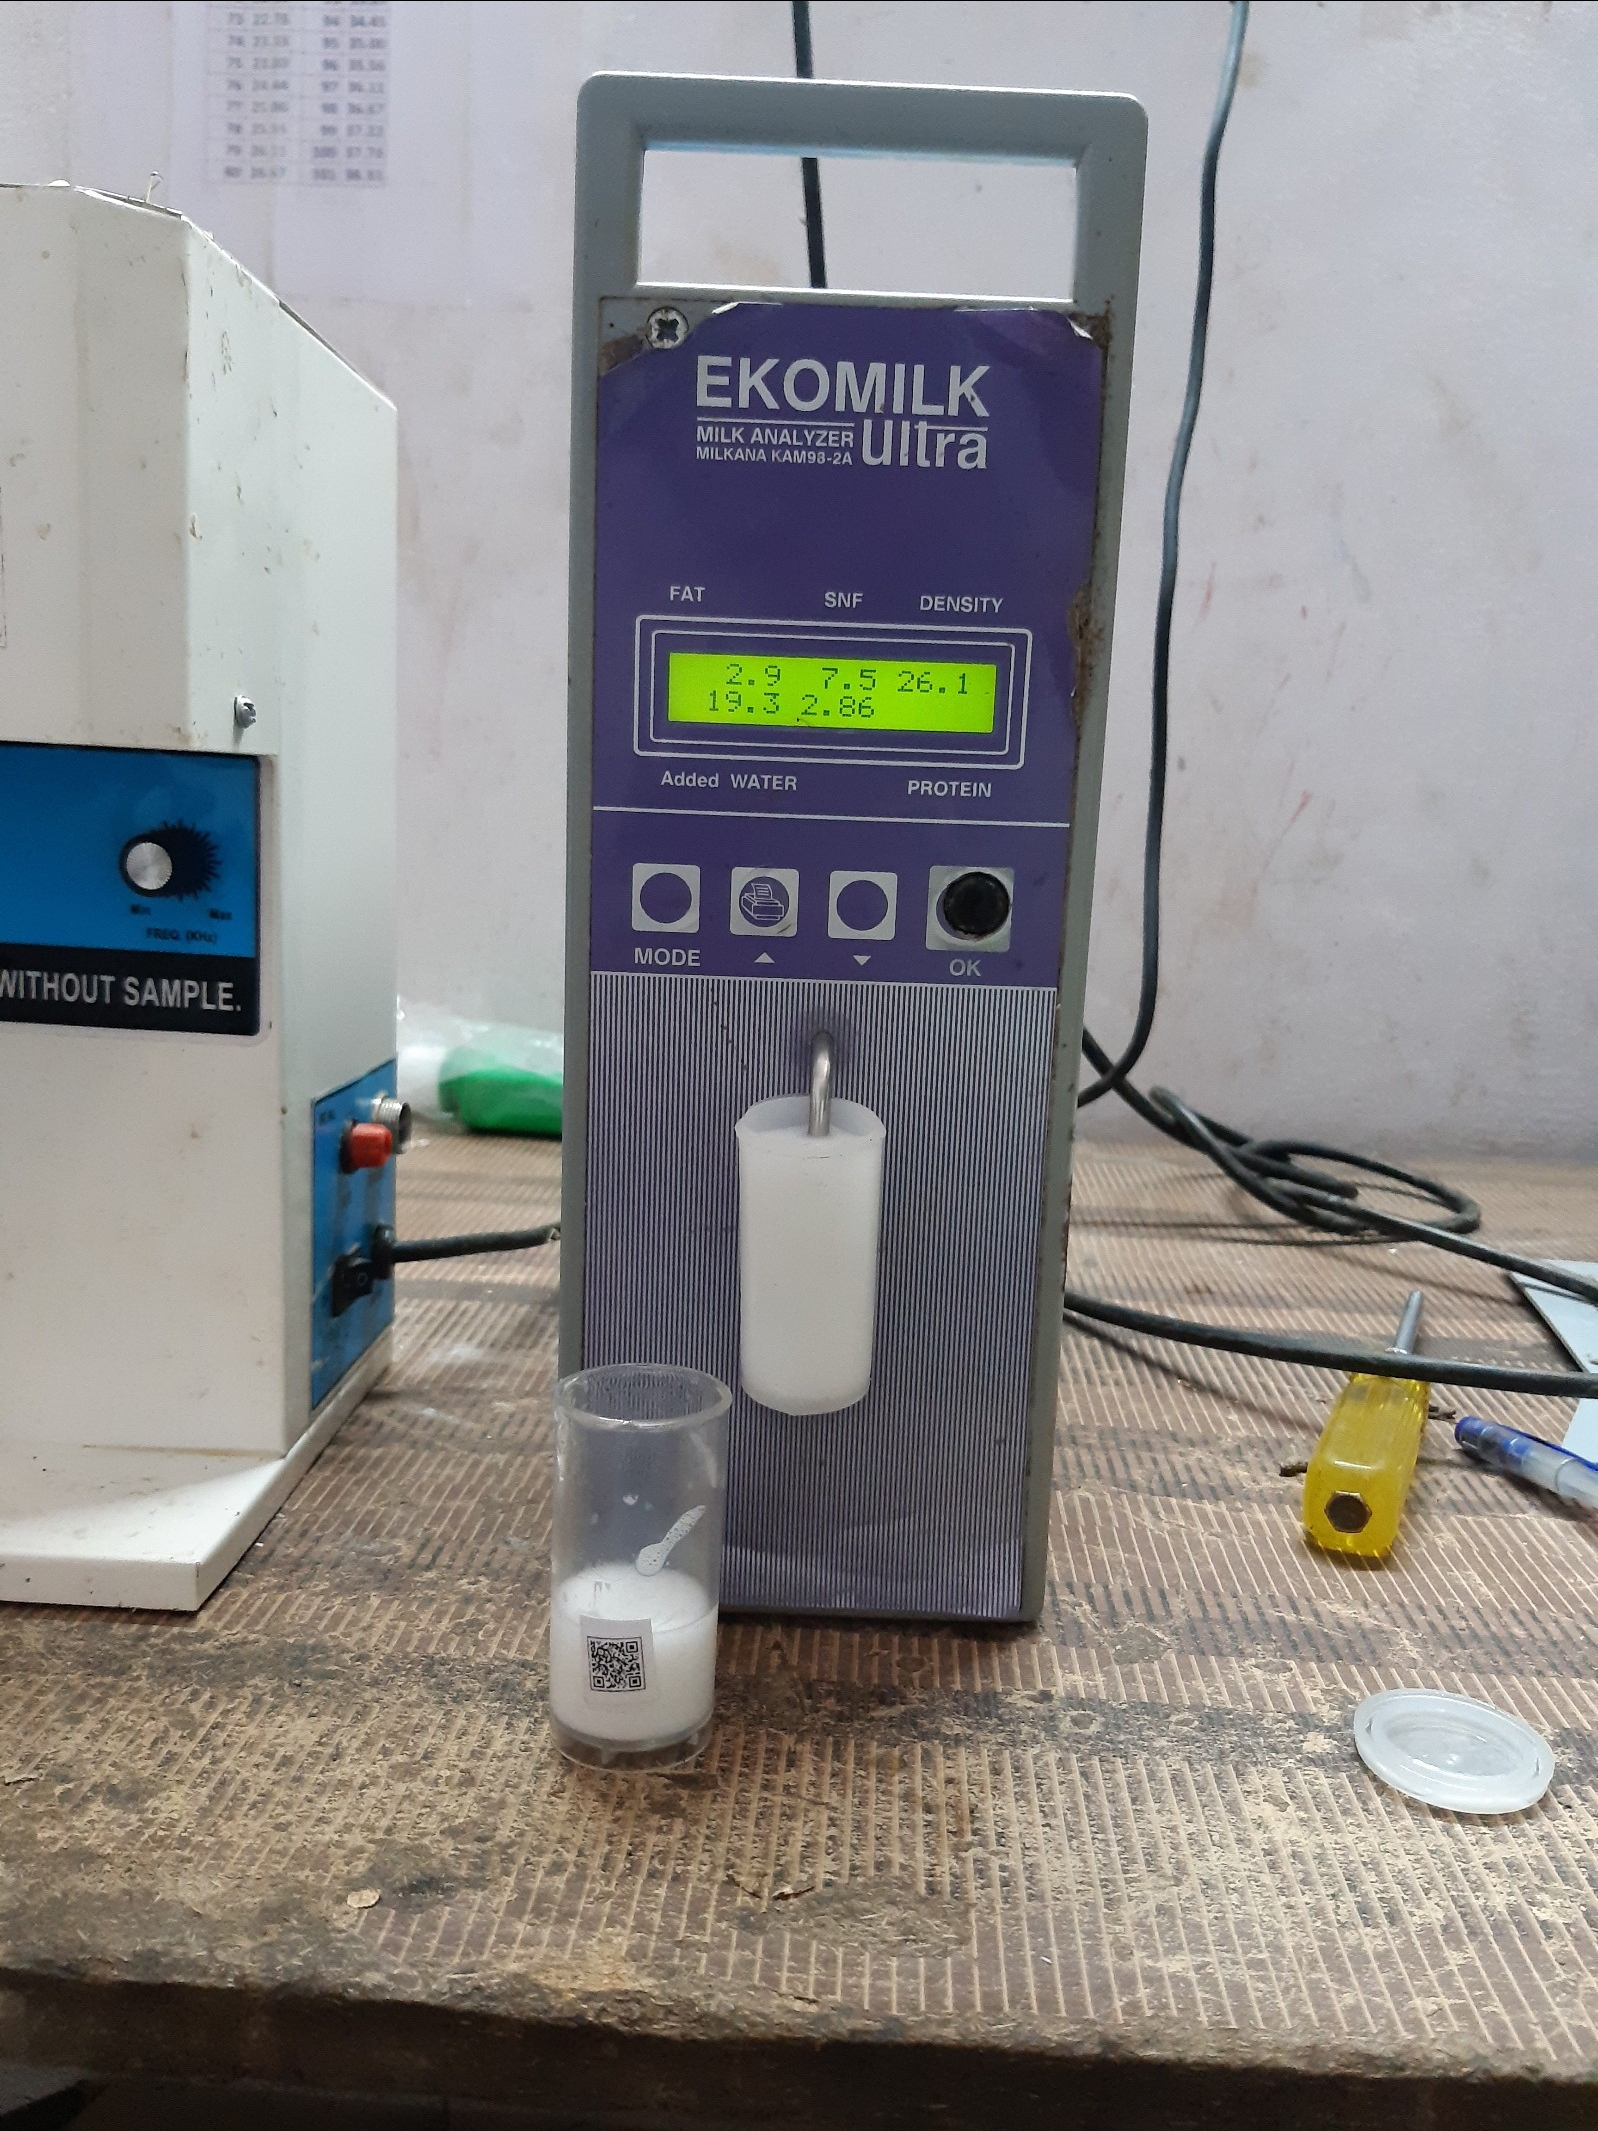lcd: (648, 653, 1057, 765)
qr: (561, 1607, 675, 1710)
